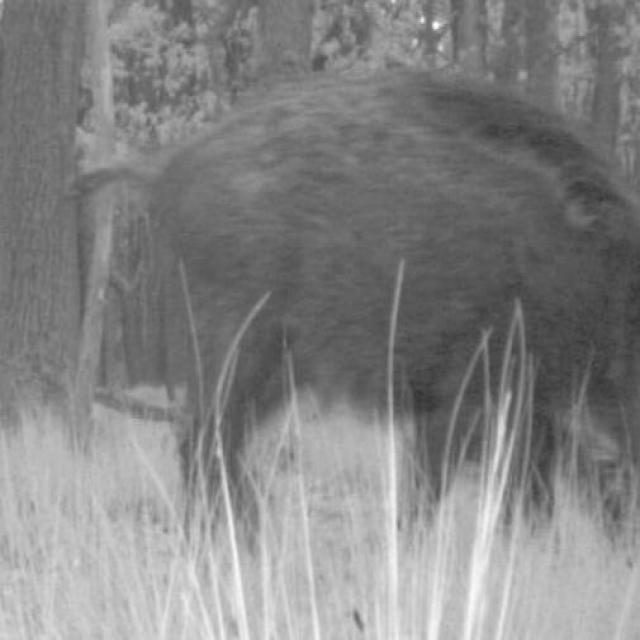pig: (127, 45, 640, 532)
